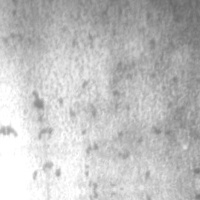pitted_surface: (60, 8, 199, 192), (0, 0, 124, 186)
